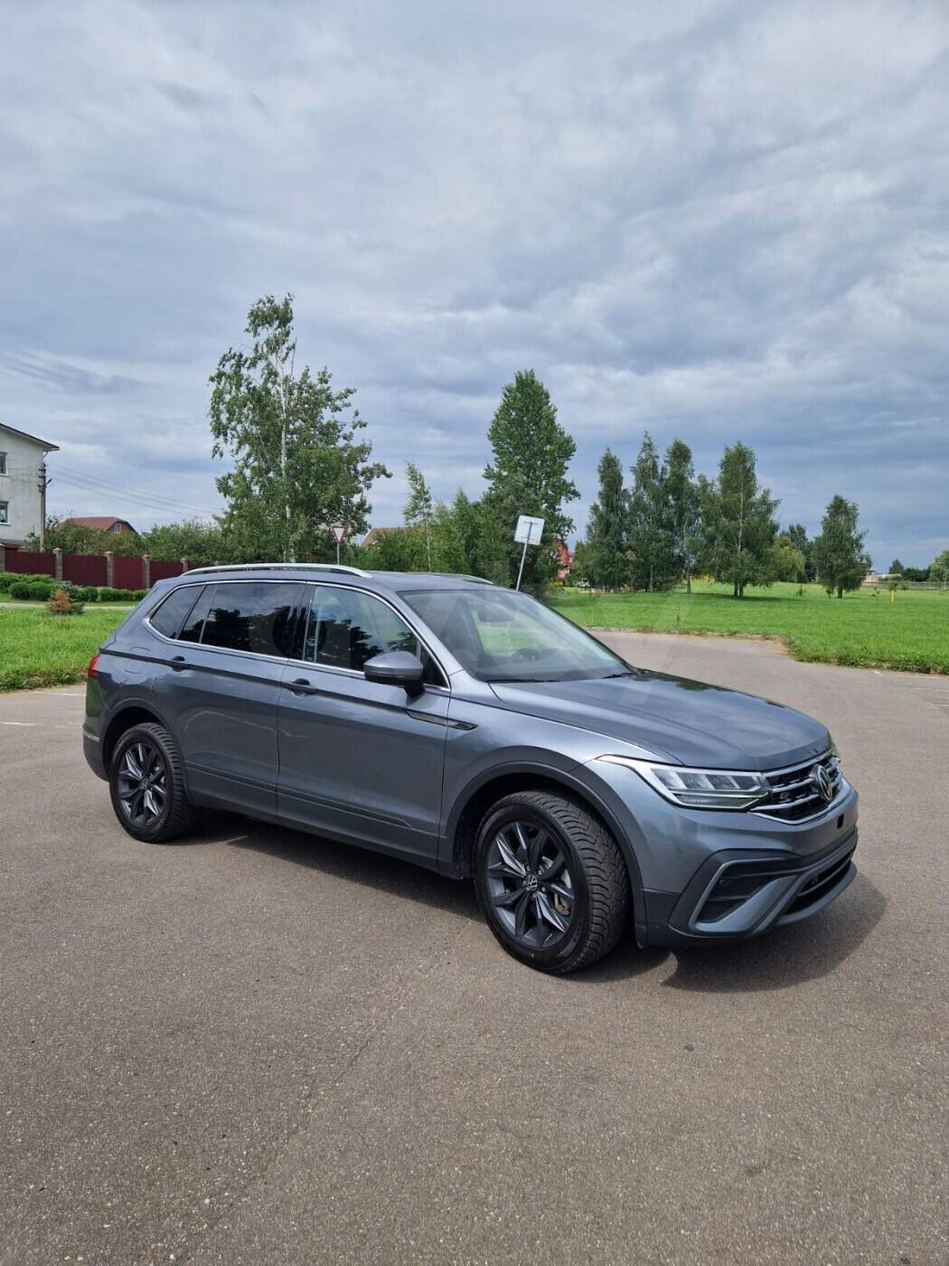Tiguan_2020-2024: (78, 562, 864, 980)
